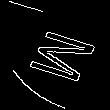M_E: (13, 24, 97, 86)
